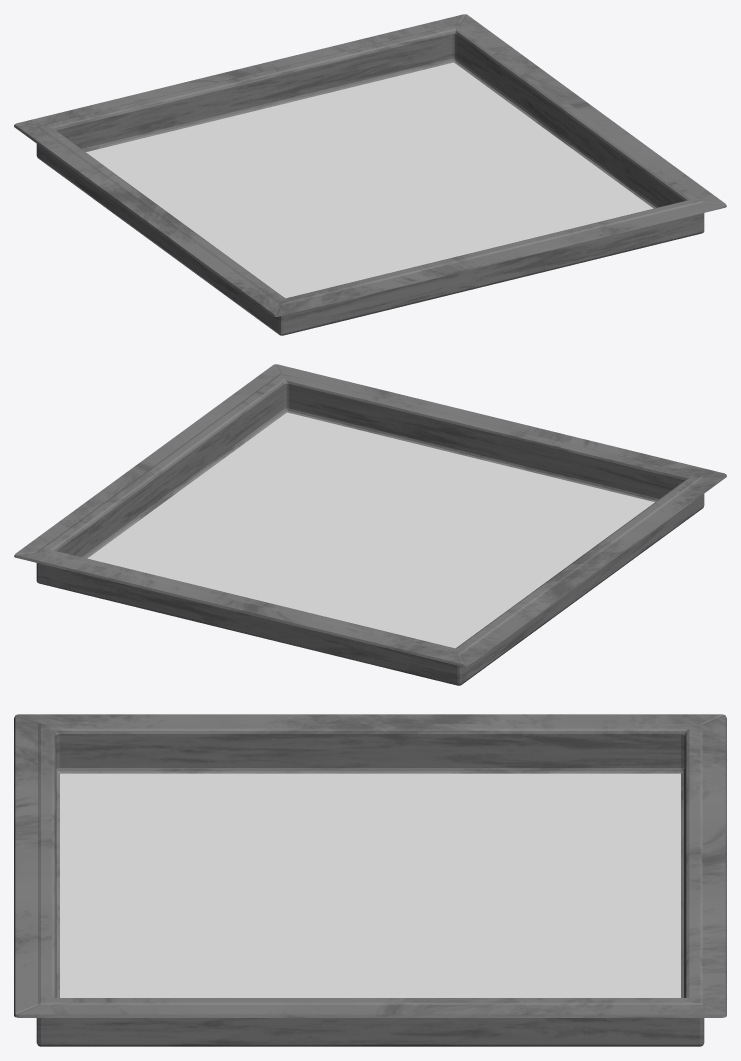
Rendered from Bath.fbx.
3 views of the same model, one above another, from view 1: azimuth 30°, elevation 25°; view 2: azimuth 150°, elevation 25°; view 3: azimuth 270°, elevation 25° (orthographic). The views are drawn at different scales.
Parts seen in each view (by area): view 1: Bath; view 2: Bath; view 3: Bath.
Boxes of the visible parts, x1,y1,x2,y2 form: Bath: (14,14,726,335); Bath: (14,364,726,685); Bath: (14,714,726,1046).
Size of the model in its own units: 1687 by 115 by 1687.
